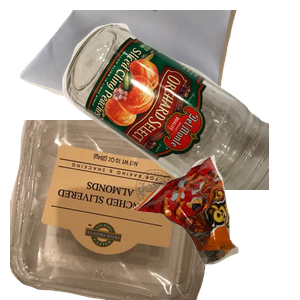glass: (60, 21, 300, 201)
paper: (17, 10, 254, 141)
plastic: (10, 120, 227, 300)
trash: (130, 153, 300, 300)
